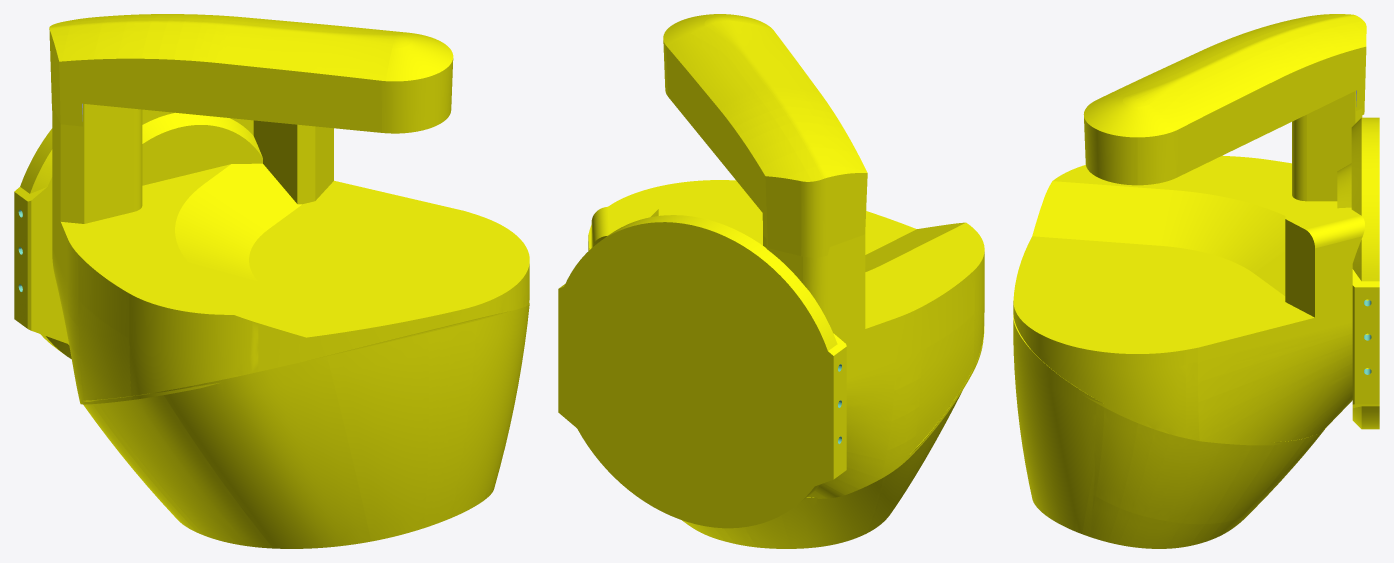
The picture shows the model from 3 angles, left to right: view 1: azimuth 30°, elevation 25°; view 2: azimuth 150°, elevation 25°; view 3: azimuth 270°, elevation 25°; orthographic projection. The views are drawn at different scales.
Visible parts, largest first — view 1: Mesh_0; view 2: Mesh_0; view 3: Mesh_0.
Boxes of the visible parts, x1,y1,x2,y2 form: Mesh_0: (14, 14, 529, 548); Mesh_0: (558, 14, 984, 548); Mesh_0: (1013, 14, 1379, 548).
Size of the model in its own units: 0.5371 by 0.6426 by 0.4843.
